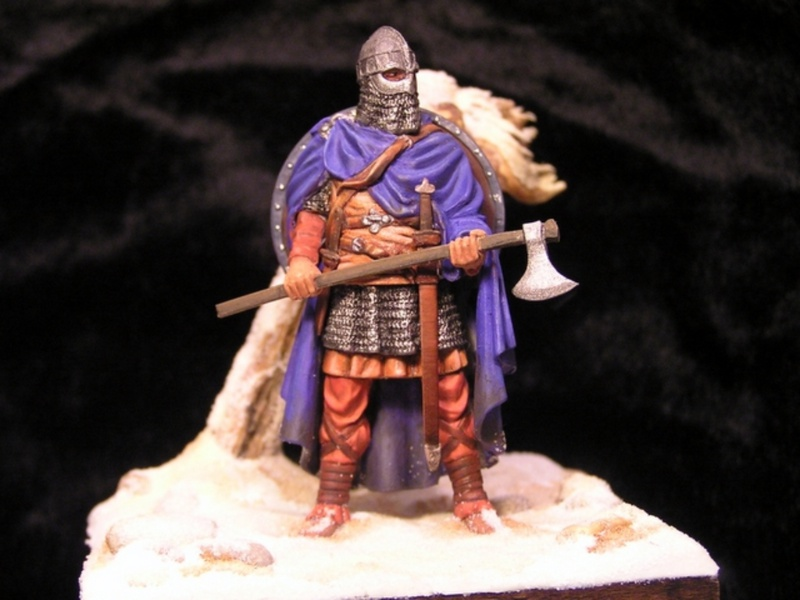axe: (498, 218, 588, 314)
